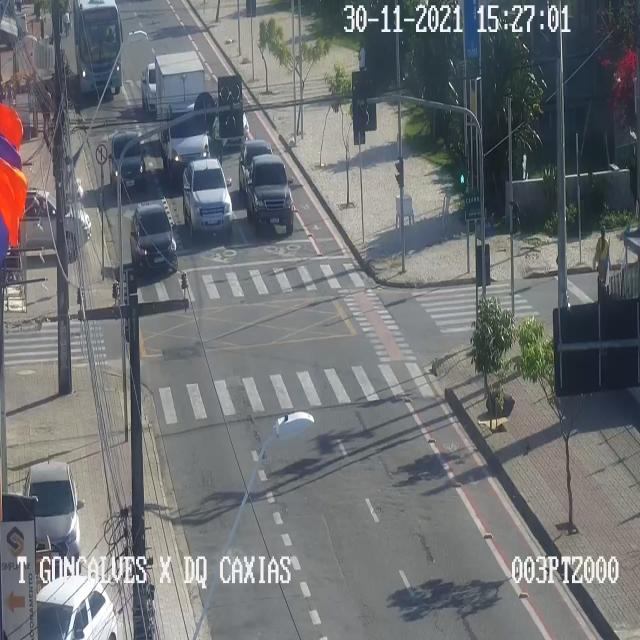Bus: (74, 0, 122, 93)
Car: (24, 462, 84, 572), (18, 189, 90, 263), (37, 574, 117, 639), (247, 154, 295, 236), (184, 158, 232, 238), (129, 202, 179, 274), (108, 130, 146, 198), (213, 94, 249, 154), (238, 139, 274, 193), (137, 56, 164, 114)
Motorcycle: (62, 0, 72, 38)
Truck: (154, 50, 210, 189)
